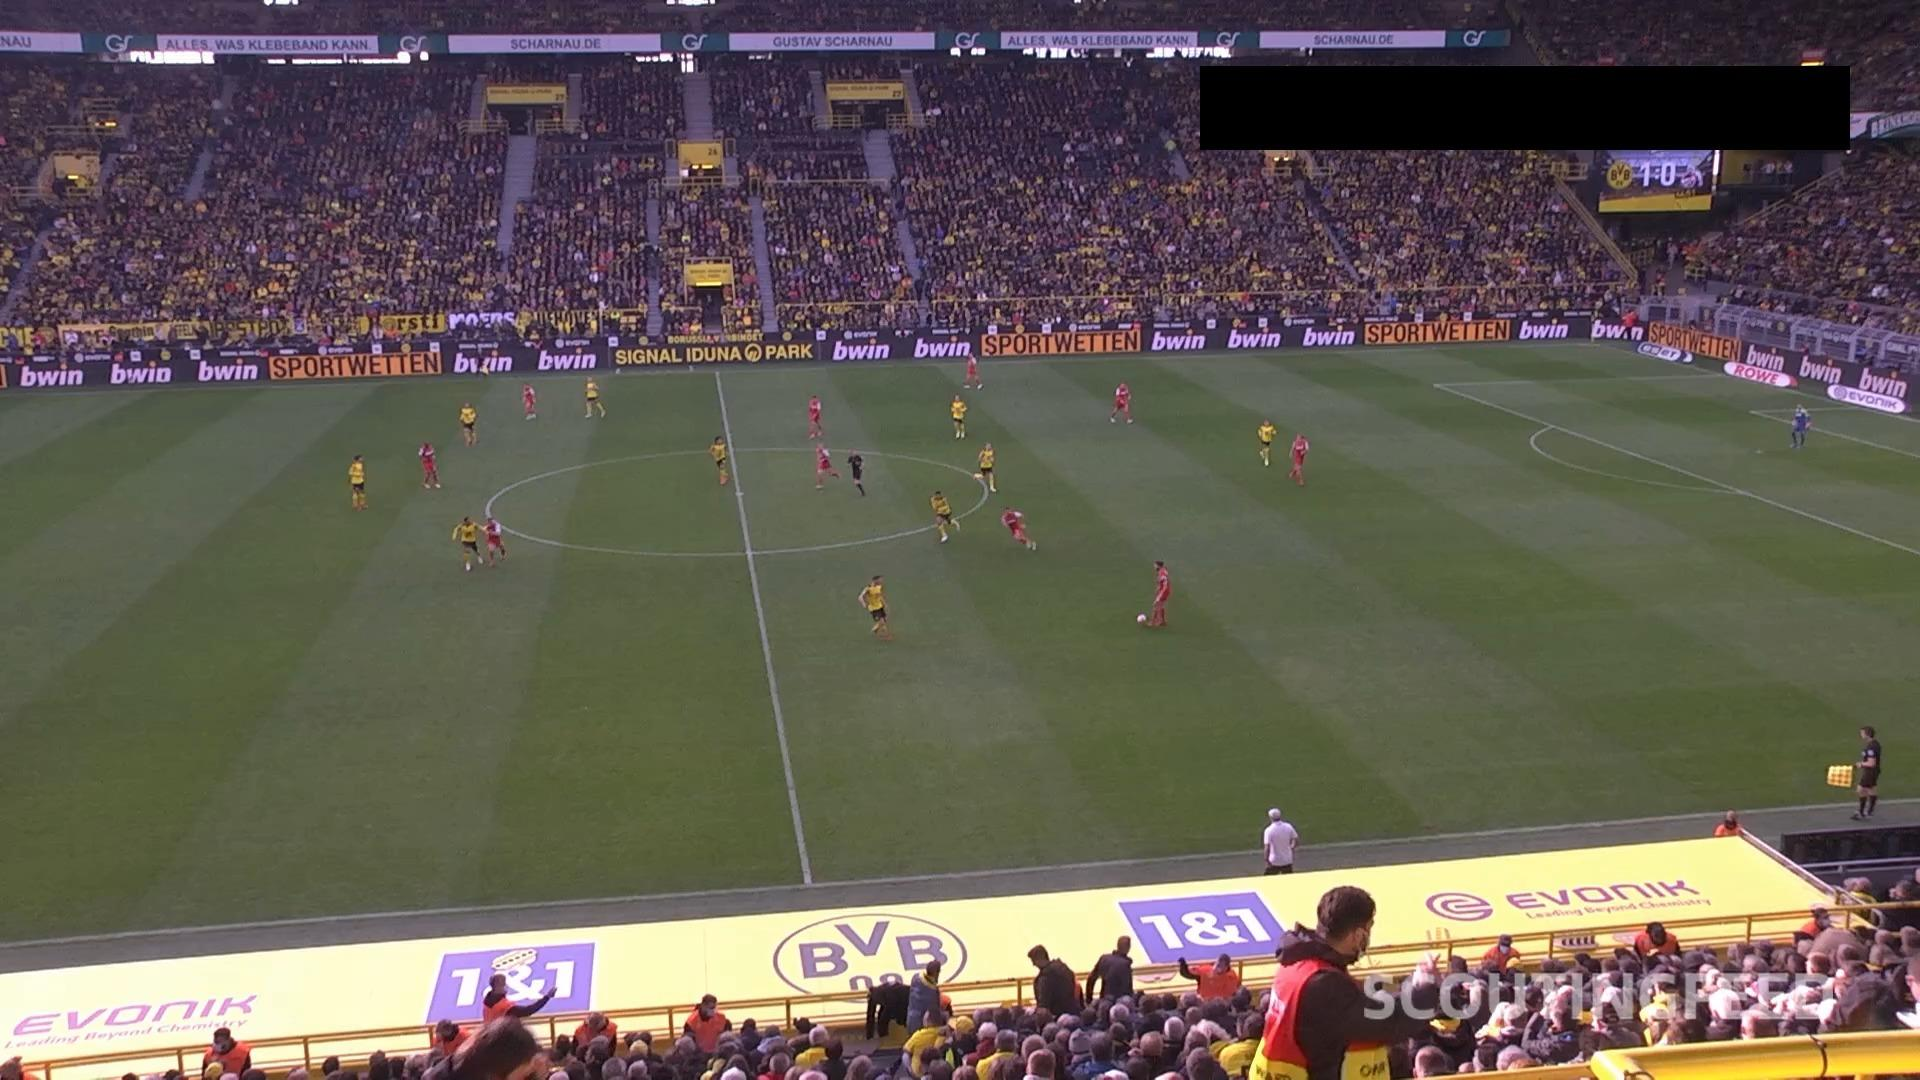ball: (1136, 612, 1146, 623)
coach: (1261, 806, 1299, 874)
fan: (1247, 884, 1460, 1078), (1027, 944, 1080, 1018), (1084, 934, 1134, 1004)
player: (857, 574, 892, 638), (450, 515, 482, 571), (1000, 507, 1036, 551), (929, 488, 958, 542), (1148, 559, 1171, 626), (482, 512, 506, 566), (973, 441, 997, 494), (416, 440, 441, 489), (813, 442, 839, 489), (1287, 431, 1309, 485), (1108, 380, 1134, 424), (347, 453, 367, 510), (708, 434, 730, 485), (1789, 403, 1811, 448), (1256, 419, 1276, 466), (583, 377, 605, 419), (961, 350, 983, 389), (458, 401, 477, 446), (949, 394, 967, 440), (806, 394, 824, 439), (520, 381, 537, 420)
referee: (1849, 724, 1881, 819), (847, 450, 866, 496), (473, 351, 490, 379)
